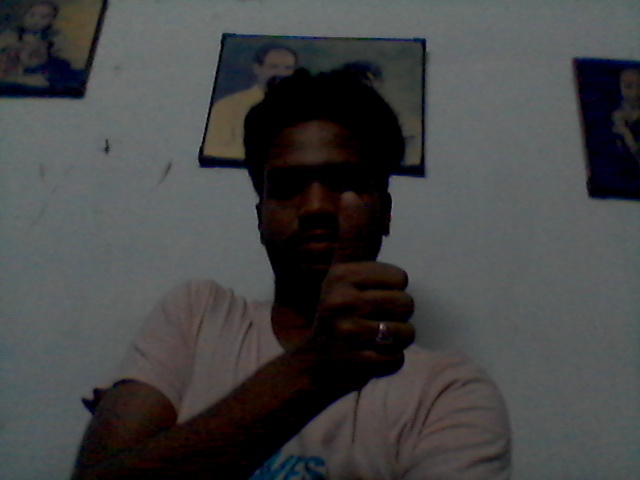Fine: (312, 189, 439, 405)
